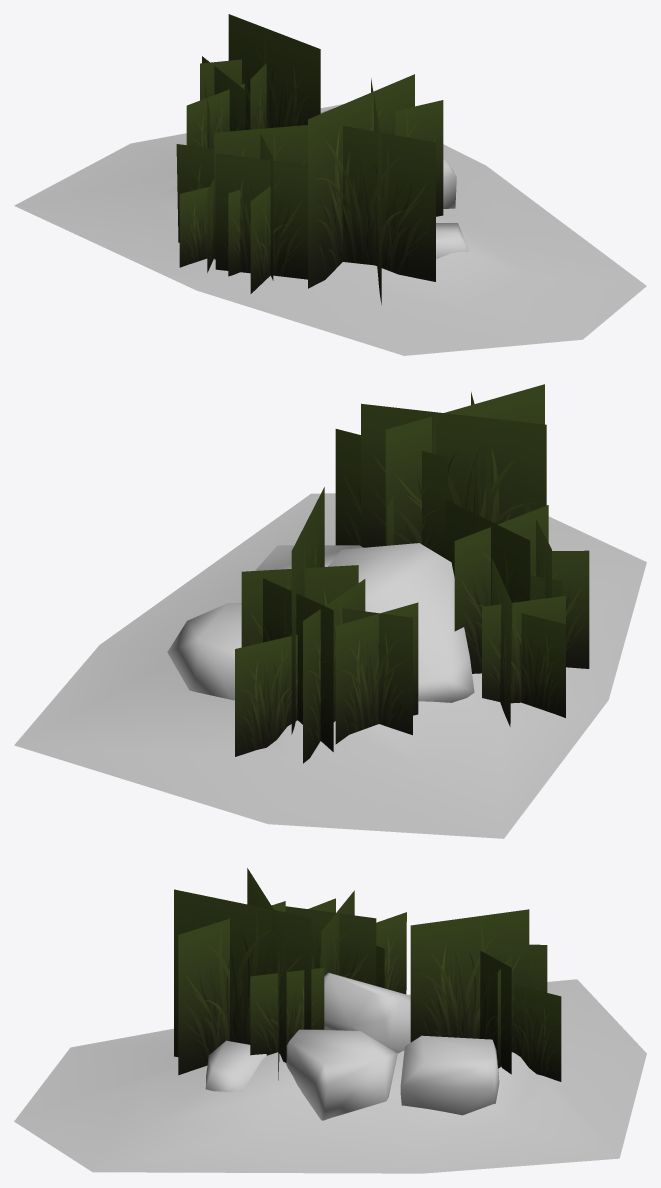
The model's file is Soil_Bricks_Grass_01.fbx.
3 views of the same model, one above another, from view 1: azimuth 30°, elevation 25°; view 2: azimuth 150°, elevation 25°; view 3: azimuth 270°, elevation 25° (orthographic). The views are drawn at different scales.
Parts seen in each view (by area): view 1: Soil_Bricks_Grass_01_LOD0; view 2: Soil_Bricks_Grass_01_LOD0; view 3: Soil_Bricks_Grass_01_LOD0.
Boxes of the visible parts, box(x1,y1,x2,y2) form: Soil_Bricks_Grass_01_LOD0: box(14, 14, 646, 355); Soil_Bricks_Grass_01_LOD0: box(14, 384, 646, 838); Soil_Bricks_Grass_01_LOD0: box(14, 868, 646, 1173).
Size of what is drawn, in the model's own units: 3.93 by 5.4 by 1.72.
